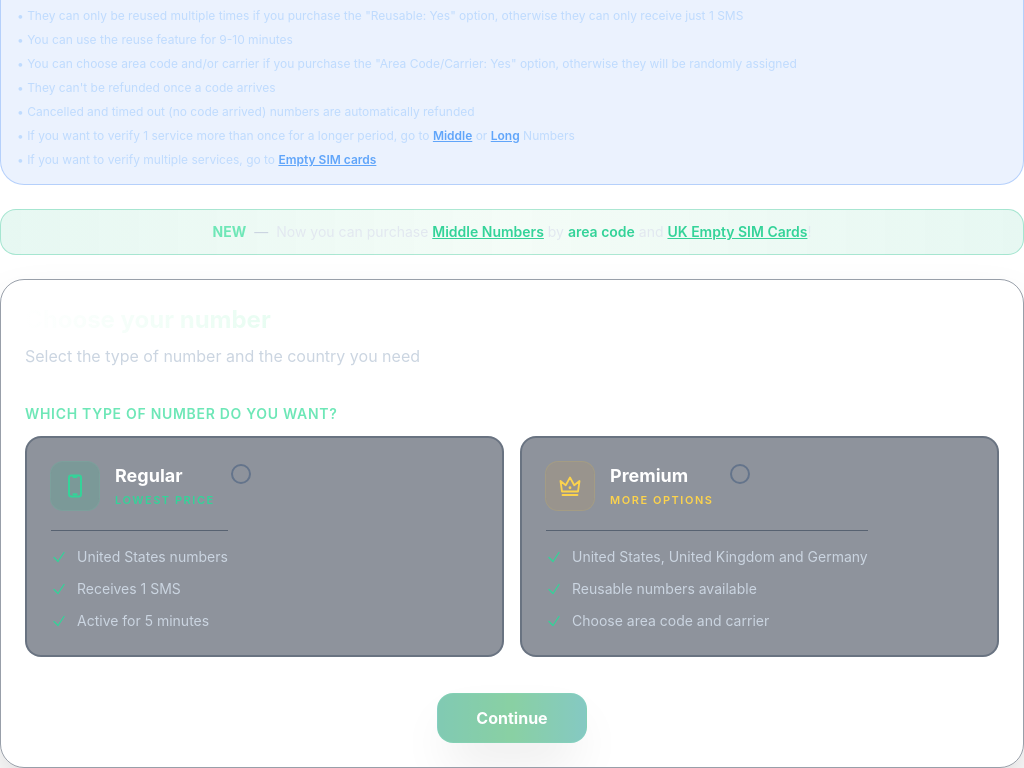
Scenario: premium numbers keep the current flow › premium in another country loads that country catalog
(page scrolled)
Click the radio button that starts with "Premium". click: (760, 546)
box: [520, 436, 999, 657]
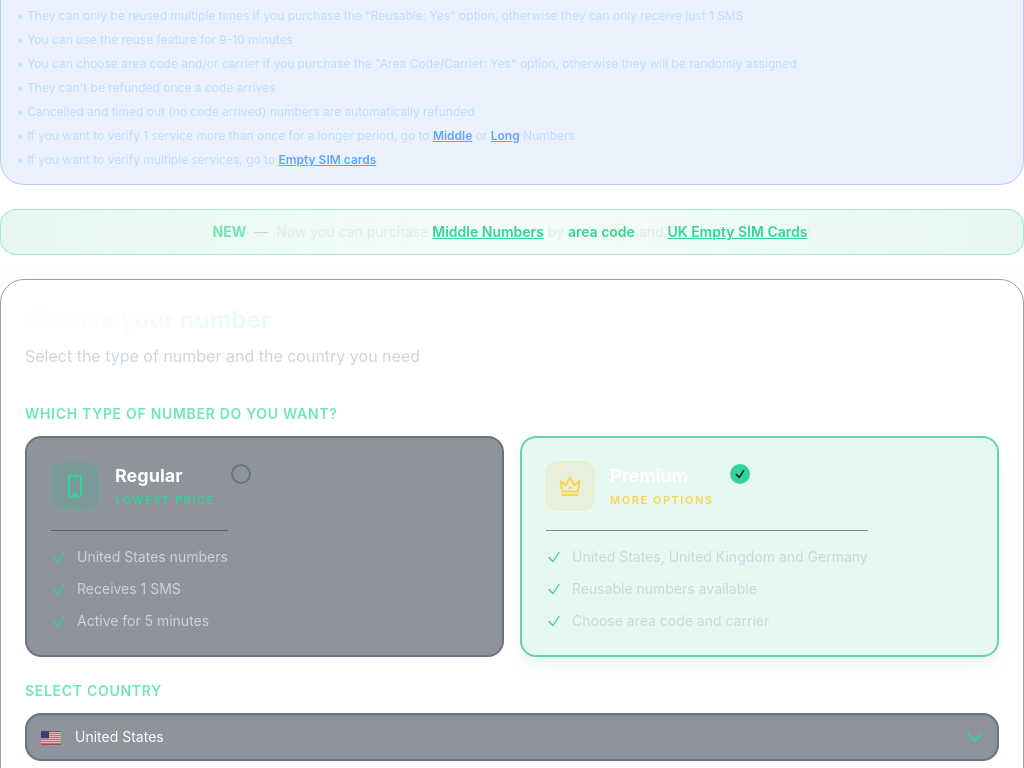
Click the text "United States". click: (119, 737)
box: [75, 727, 164, 747]
(page scrolled)
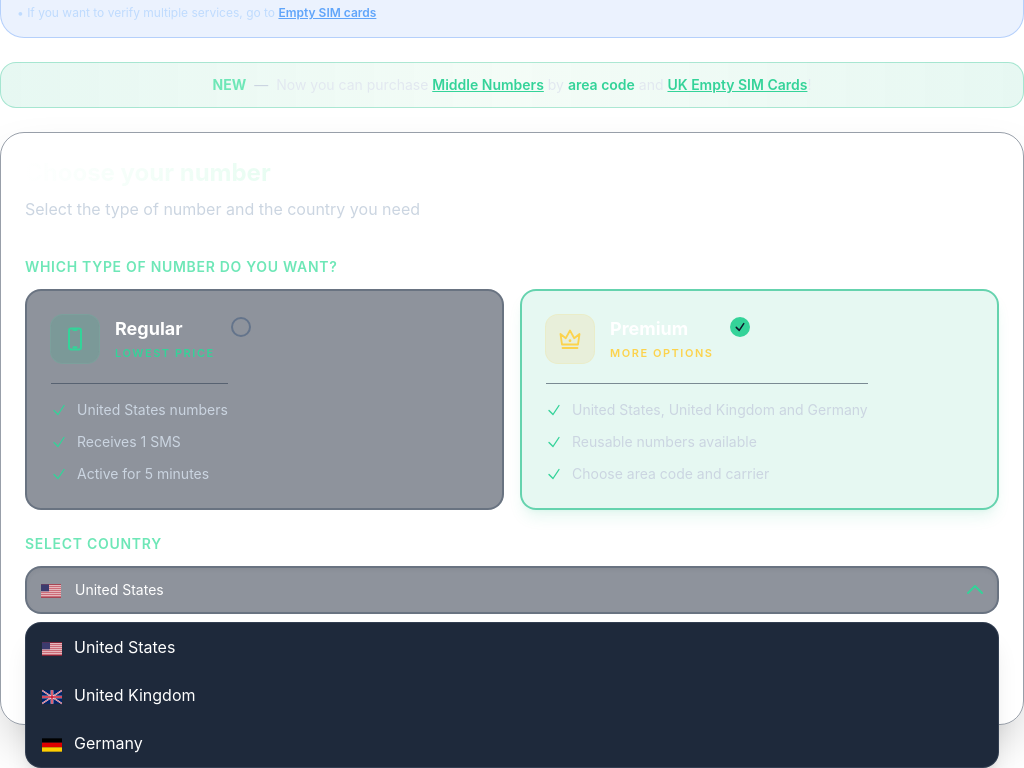
Click the text "United Kingdom". click: (135, 695)
box: [74, 683, 196, 707]
(page scrolled)
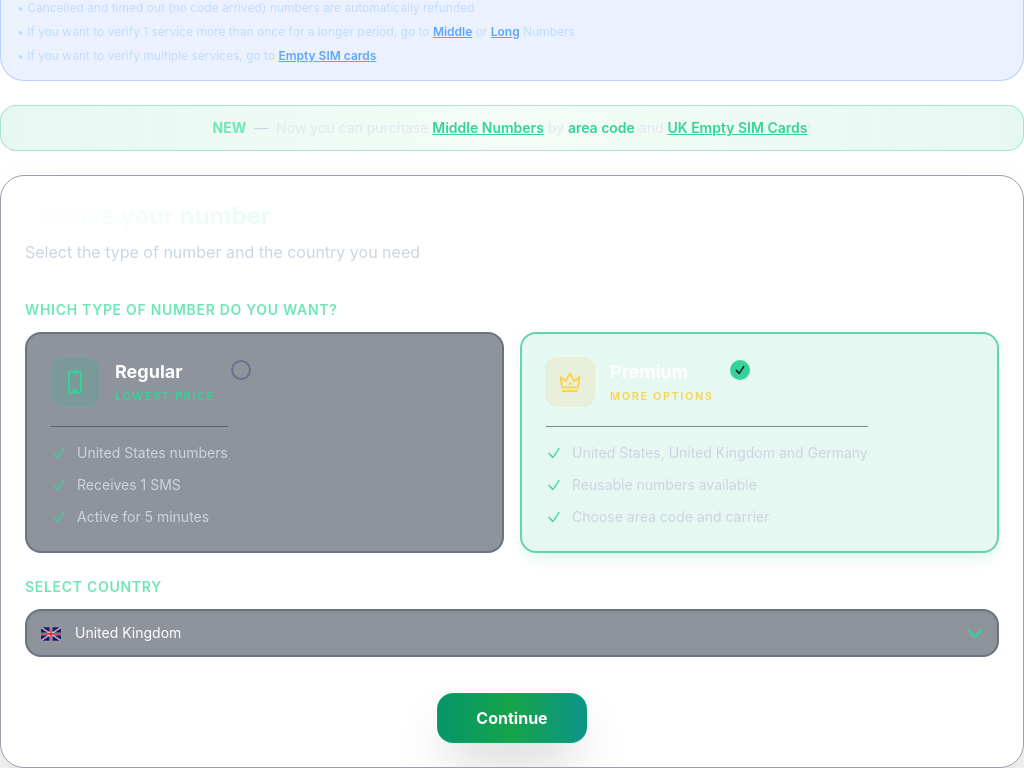
Click the button "Continue". click: (512, 718)
box: [437, 693, 587, 743]
(page scrolled)
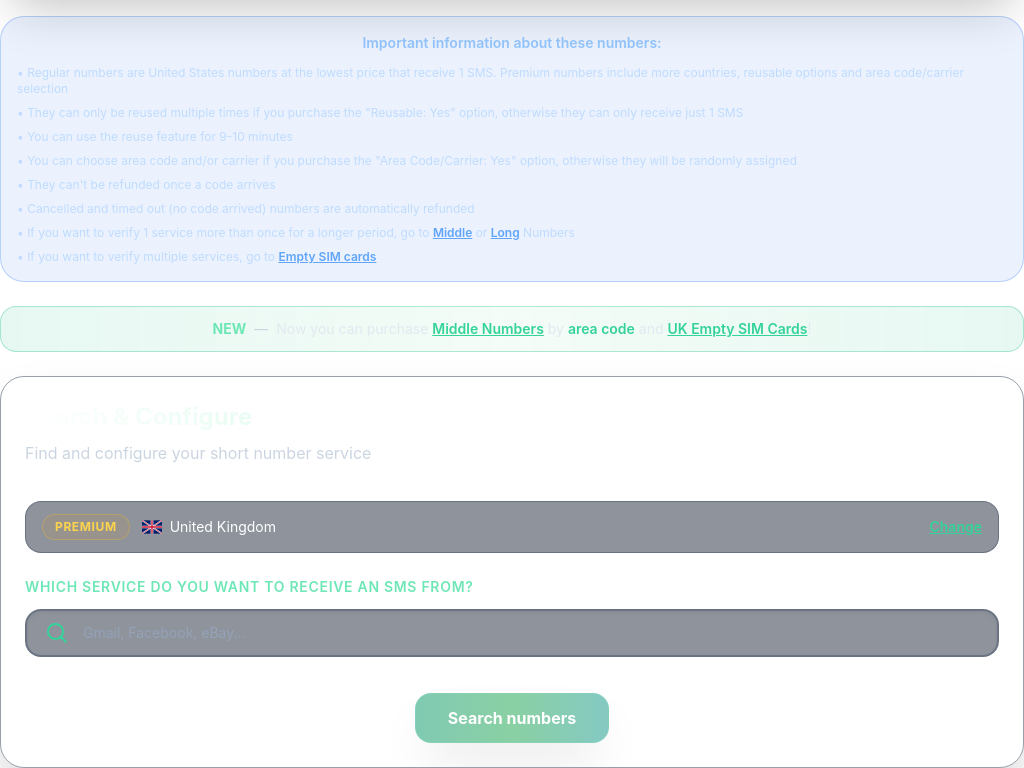
Type "tele" into the field with placeholder "Gmail, Facebook, eBay...". click: (512, 633)
box: [25, 609, 999, 657]
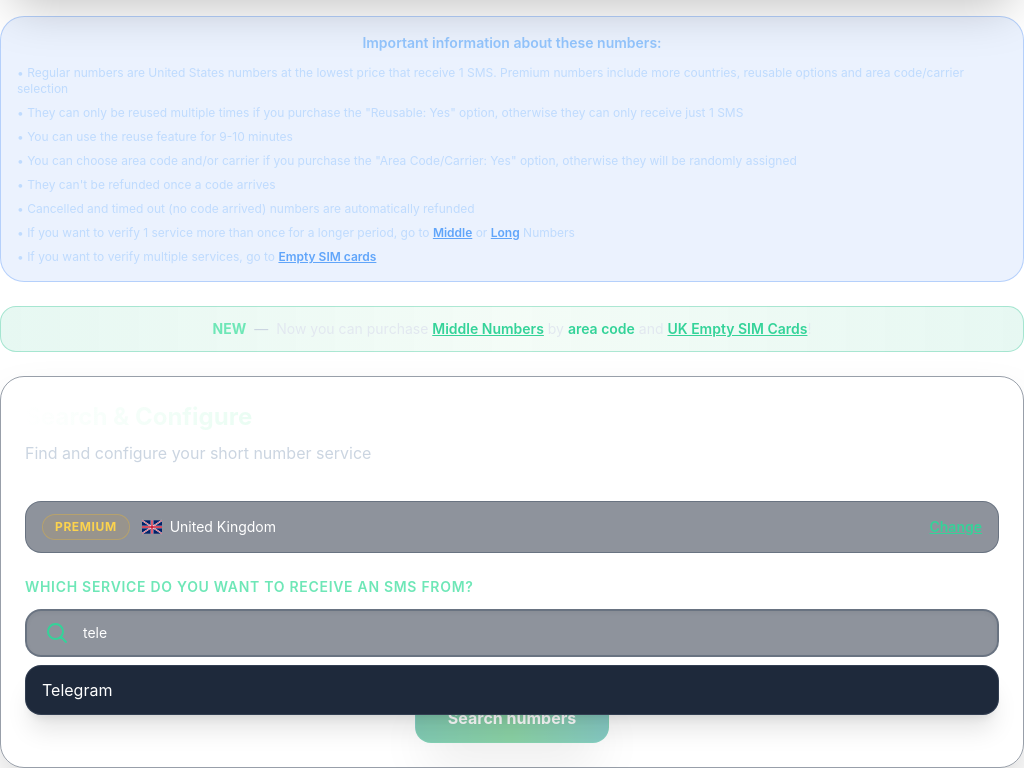
Expected: the text "Premium" is shown, [42, 514, 130, 540]
Now the text "Telegram" is shown, box [42, 678, 112, 702]
